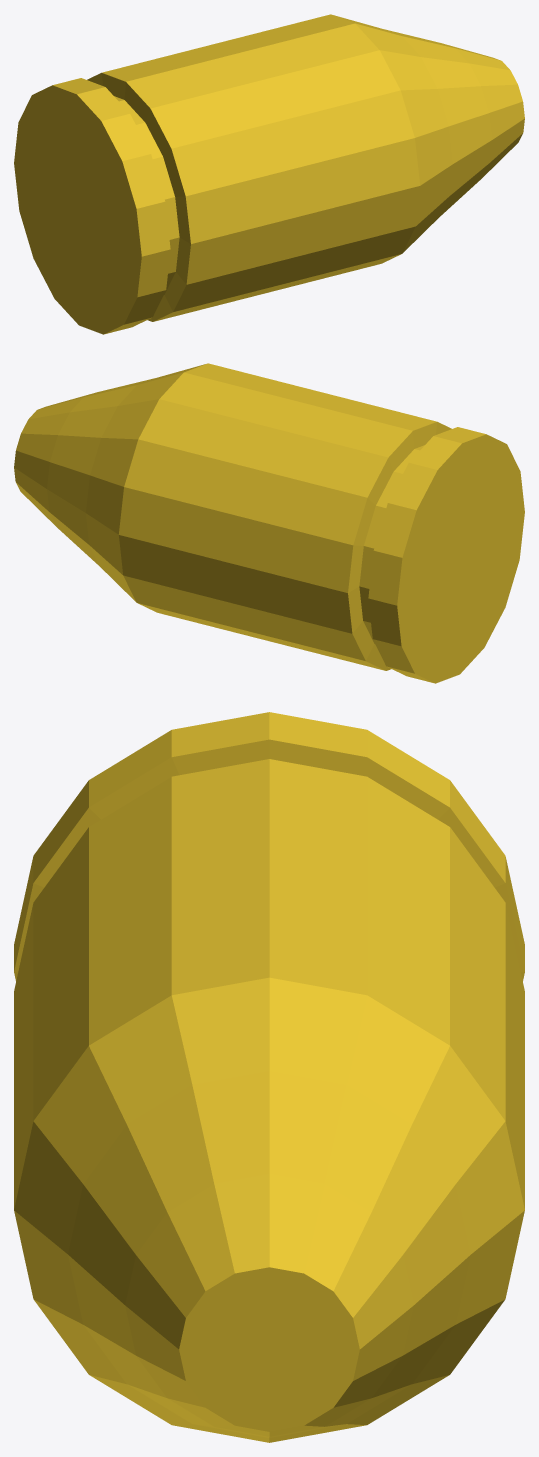
The model's file is mermir.fbx.
3 views of the same model, one above another, from view 1: azimuth 30°, elevation 25°; view 2: azimuth 150°, elevation 25°; view 3: azimuth 270°, elevation 25° (orthographic). The views are drawn at different scales.
Visible parts, largest first — view 1: MERMİ; view 2: MERMİ; view 3: MERMİ.
Boxes of the visible parts, x1=… form: MERMİ: x1=14, y1=14, x2=524, y2=334; MERMİ: x1=14, y1=363, x2=524, y2=683; MERMİ: x1=14, y1=712, x2=524, y2=1442.
Bounding box in the file's own units: 121 × 63.83 × 63.02.
